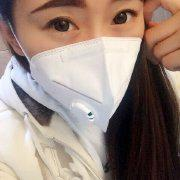OK: (21, 2, 145, 123)
